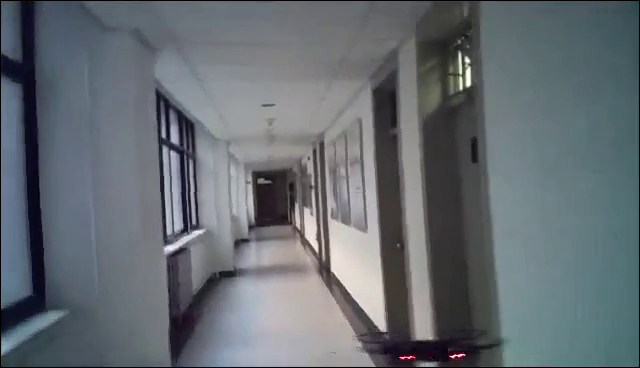drone: (348, 327, 511, 368)
